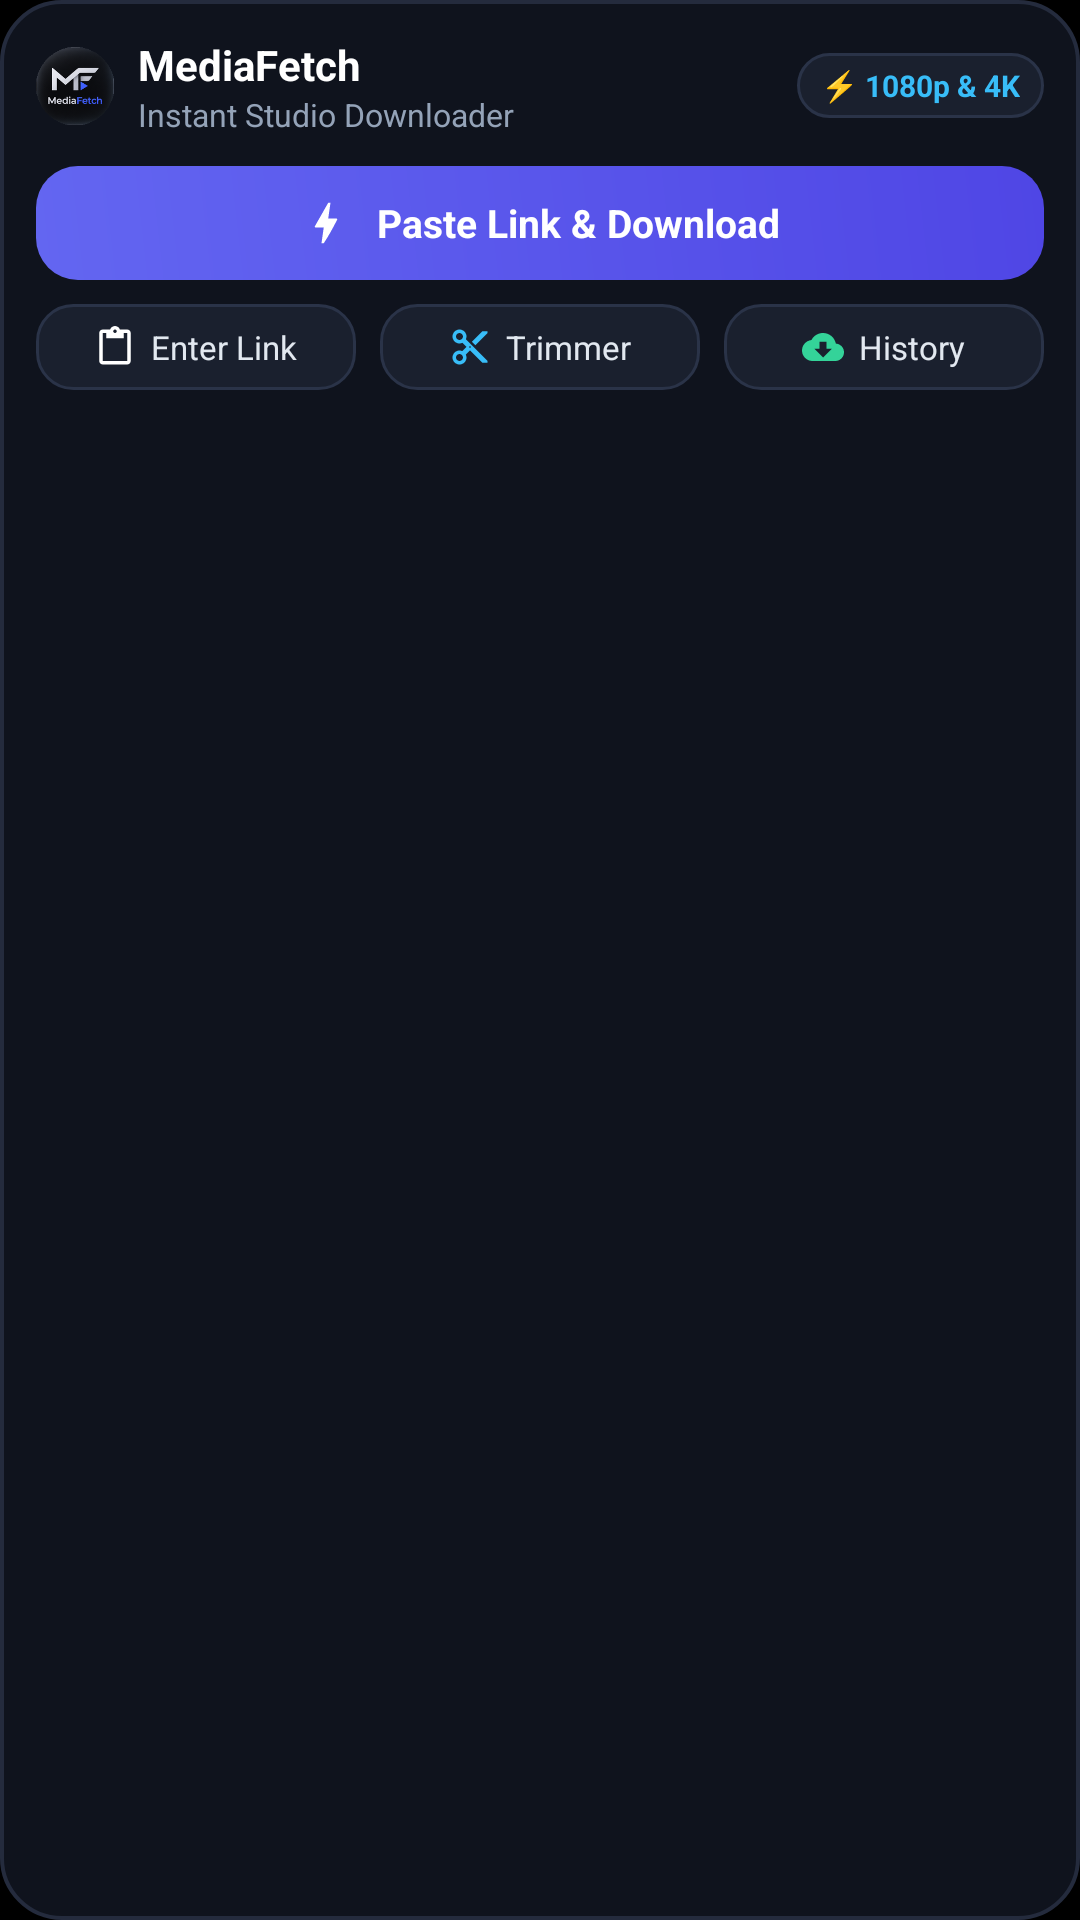

Named icons in this screenshot (1080 x 1920) and their bounding boxes, (x1, y1, x2, y2):
widget bolt: (314, 202, 338, 244)
widget paste: (99, 326, 131, 365)
